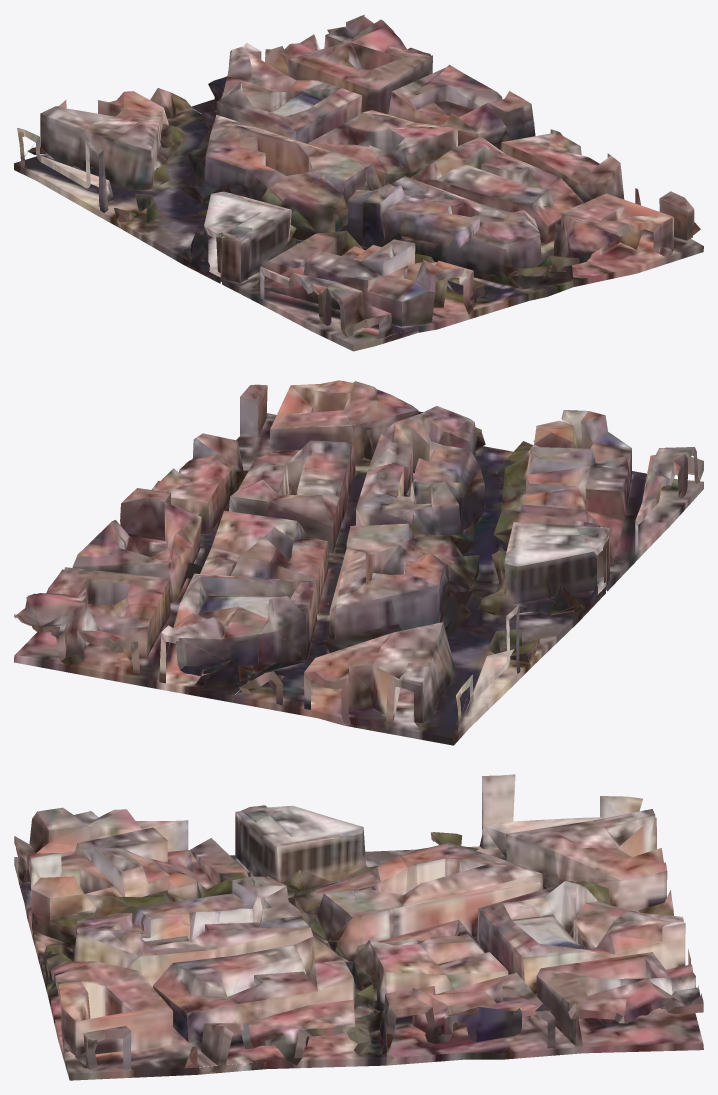
3 renders of one model, top to bottom at view 1: azimuth 30°, elevation 25°; view 2: azimuth 150°, elevation 25°; view 3: azimuth 270°, elevation 25°, orthographic. The views are drawn at different scales.
Parts seen in each view (by area): view 1: Mesh_0; view 2: Mesh_0; view 3: Mesh_0.
Boxes of the visible parts, x1,y1,x2,y2 form: Mesh_0: [14, 14, 703, 351]; Mesh_0: [14, 380, 703, 745]; Mesh_0: [14, 774, 703, 1080].
Bounding box in the file's own units: 266 × 42.22 × 330.
Materials: 1 (1 with a texture image).
